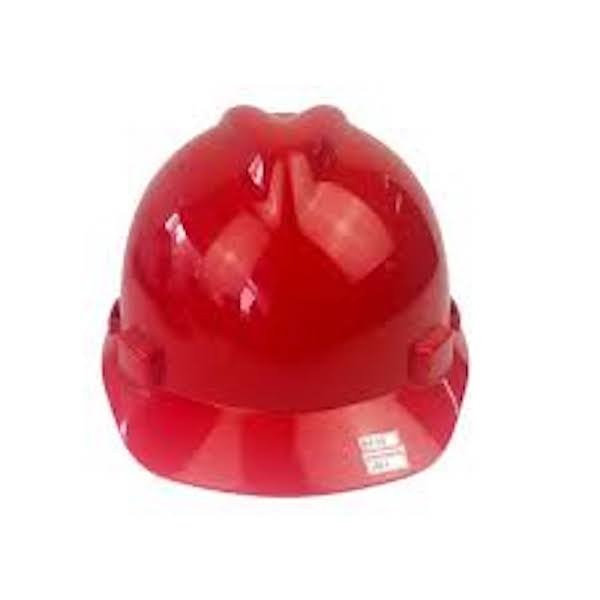helmet: (106, 107, 472, 483)
